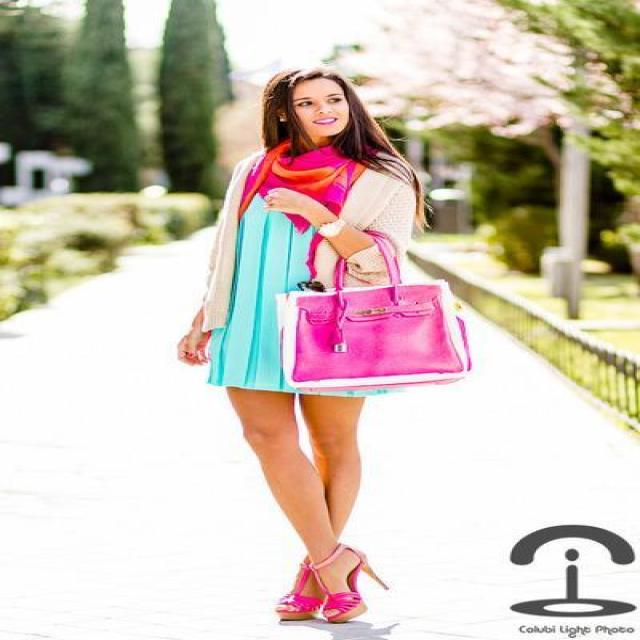bag: (266, 214, 470, 404)
dress: (208, 218, 315, 389)
jacket: (189, 149, 421, 319)
shoe: (277, 560, 360, 623)
